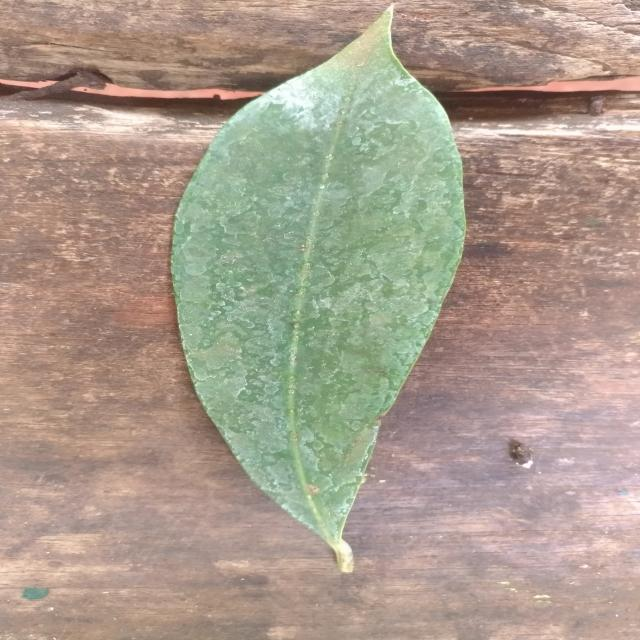nerale: (171, 9, 464, 572)
